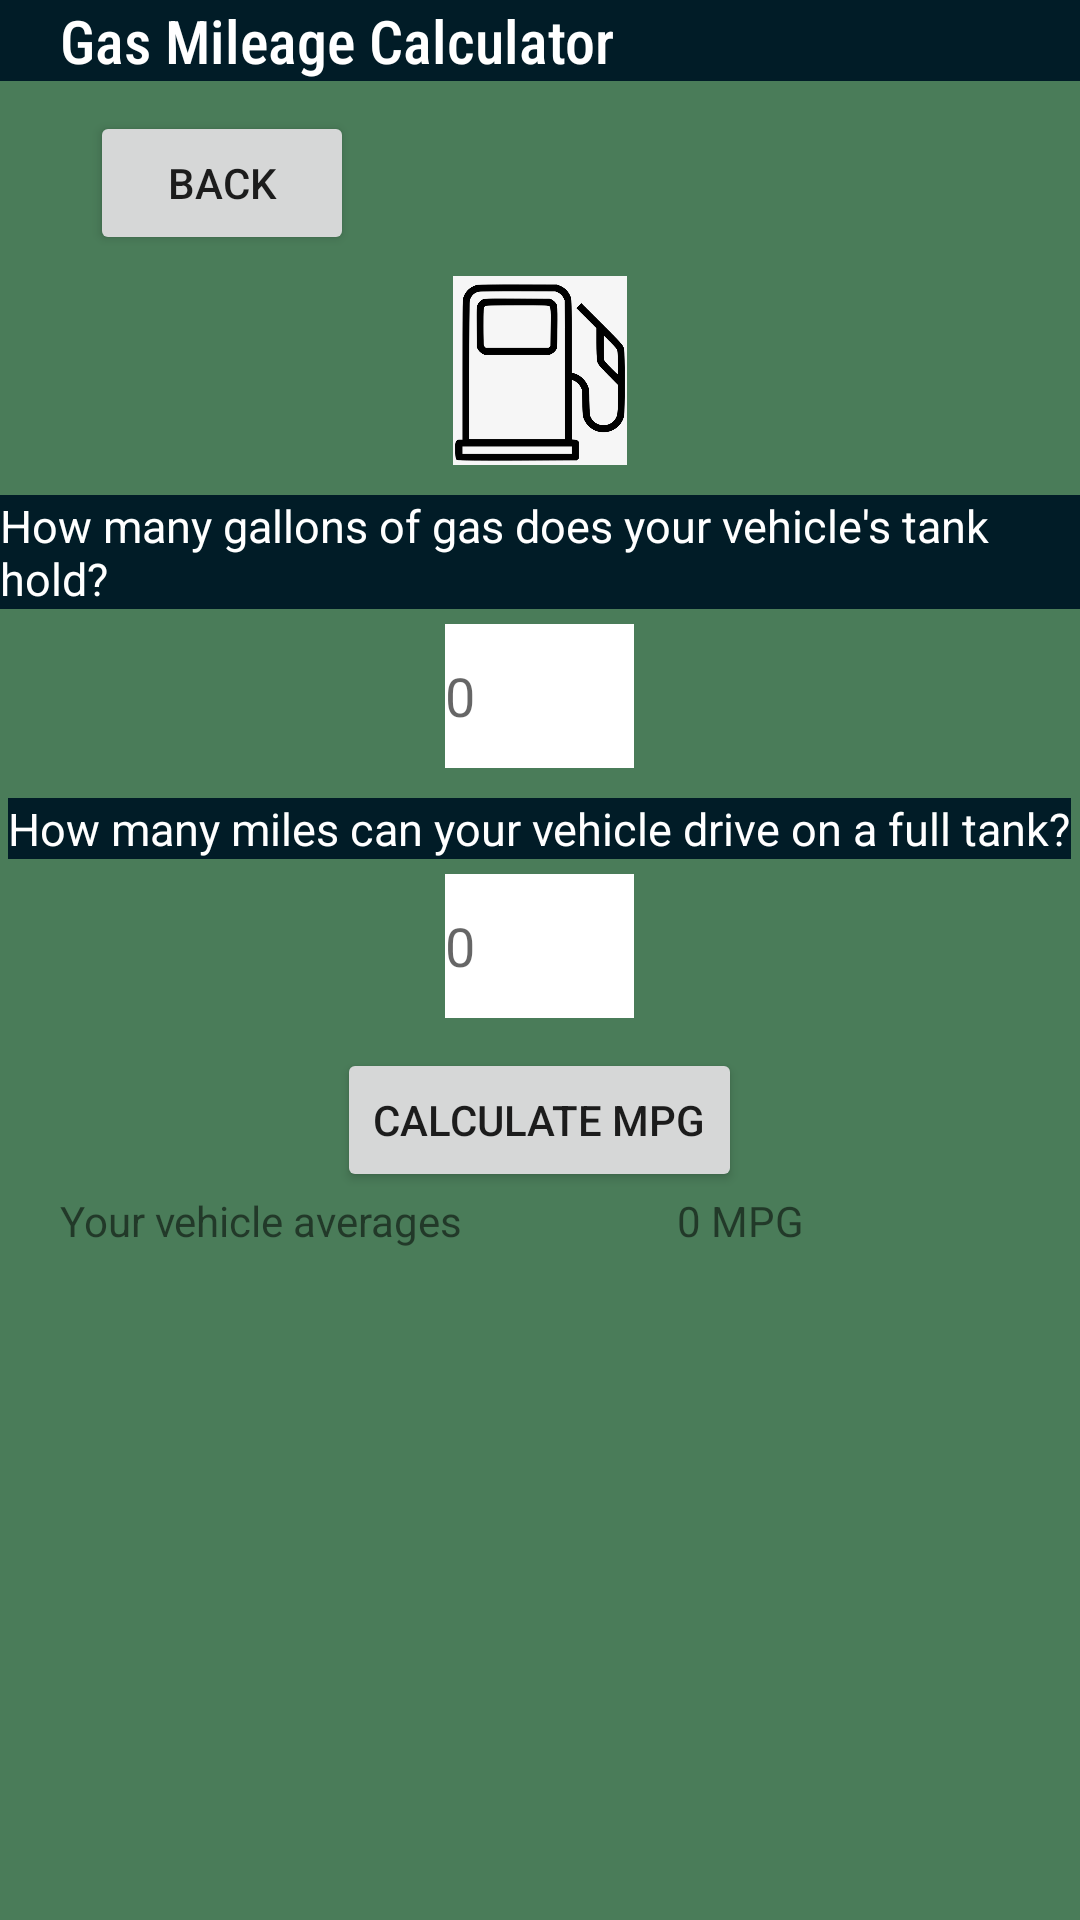

Screen size 1080w x 1920h. Icon name, then its center in pixels as (x,y):
Image of Gas Pump: (540,370)
